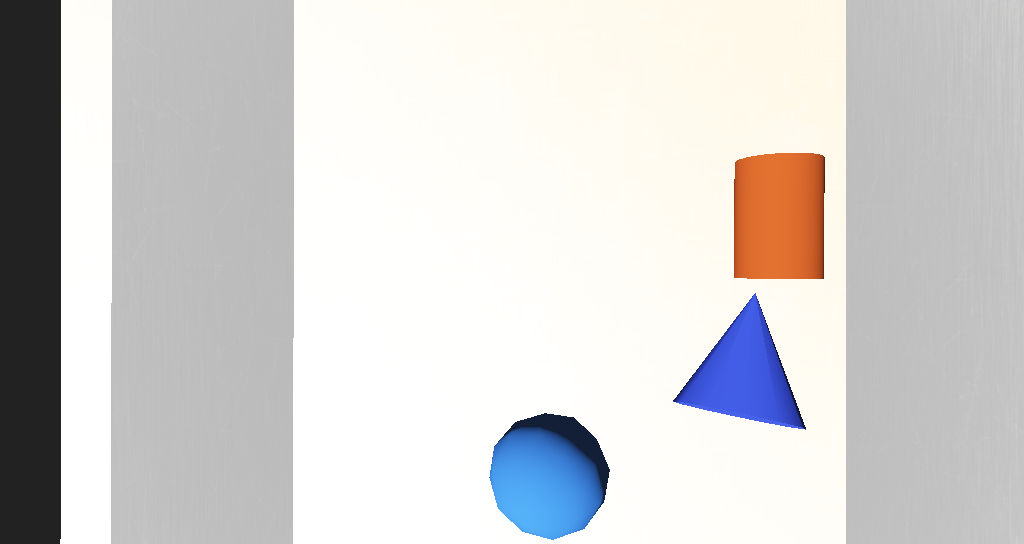cone: (586, 224, 640, 272)
cylinder: (546, 270, 640, 332)
sphere: (458, 322, 525, 365)
